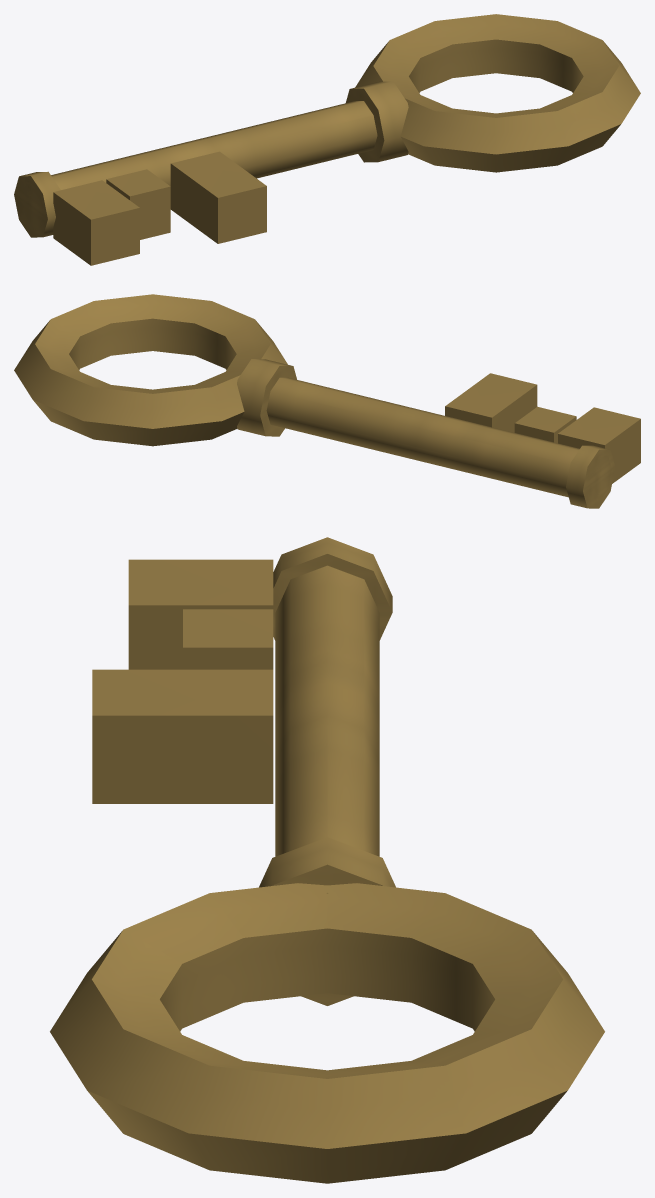
The model's file is key_brass.fbx.
3 renders of one model, top to bottom at view 1: azimuth 30°, elevation 25°; view 2: azimuth 150°, elevation 25°; view 3: azimuth 270°, elevation 25°, orthographic. The views are drawn at different scales.
Parts seen in each view (by area): view 1: key_brass; view 2: key_brass; view 3: key_brass.
Part boxes in pixels (box(x1,y1,x2,y2)): key_brass: box(14, 14, 640, 265); key_brass: box(14, 294, 640, 508); key_brass: box(50, 537, 604, 1183).
Bounding box in the file's own units: 0.0724 × 0.00864 × 0.0307.
1 material, 1 textured.
